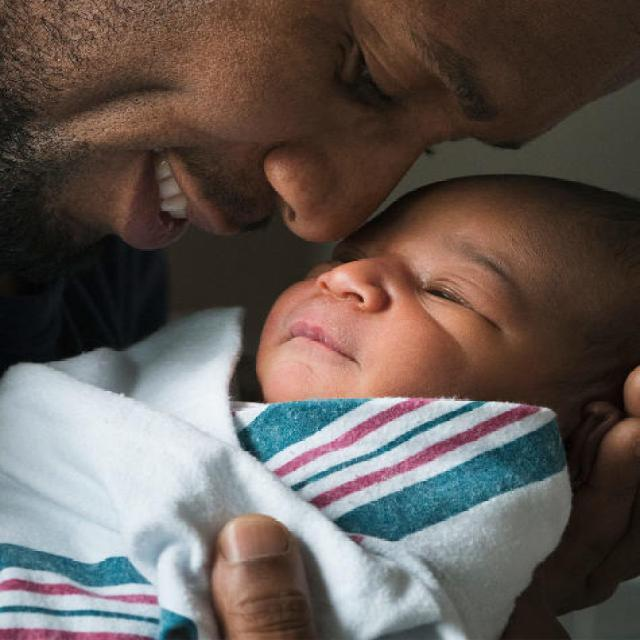non-dog: (0, 168, 640, 640), (0, 2, 640, 292)
